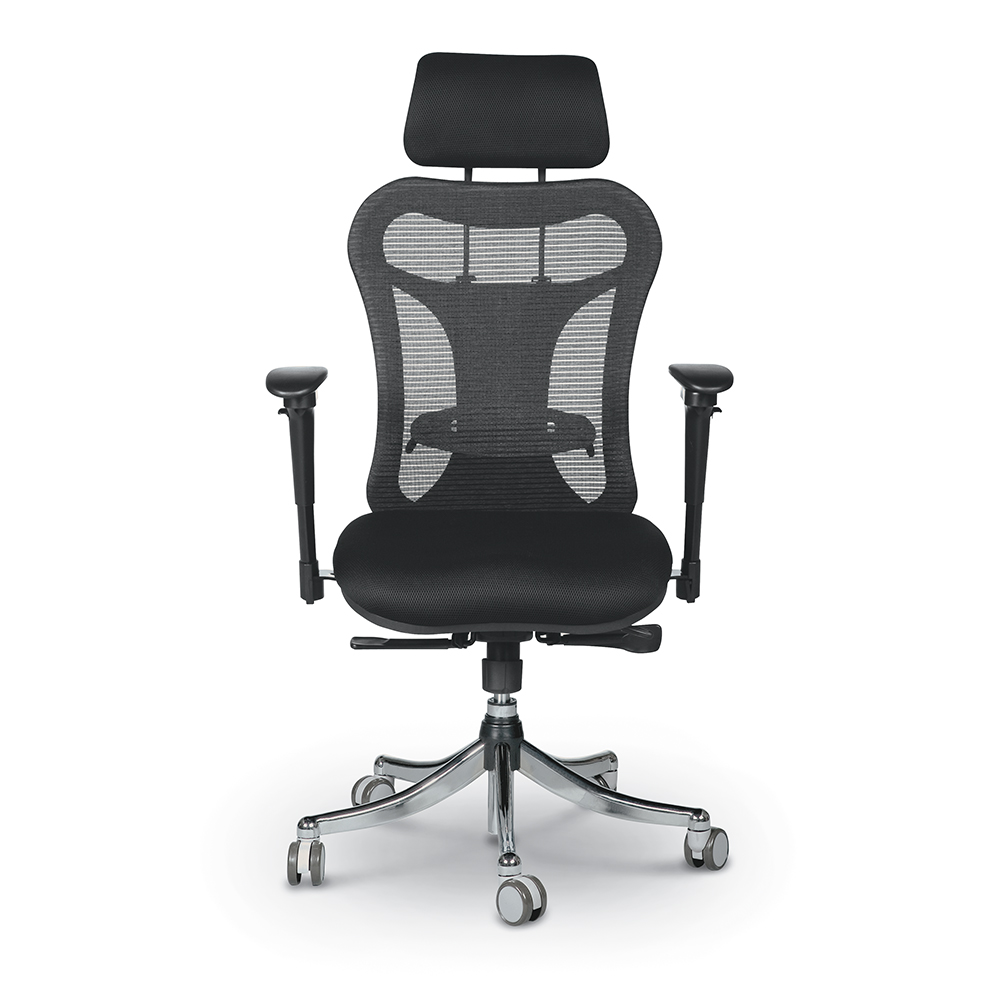chairs: (250, 43, 745, 937)
